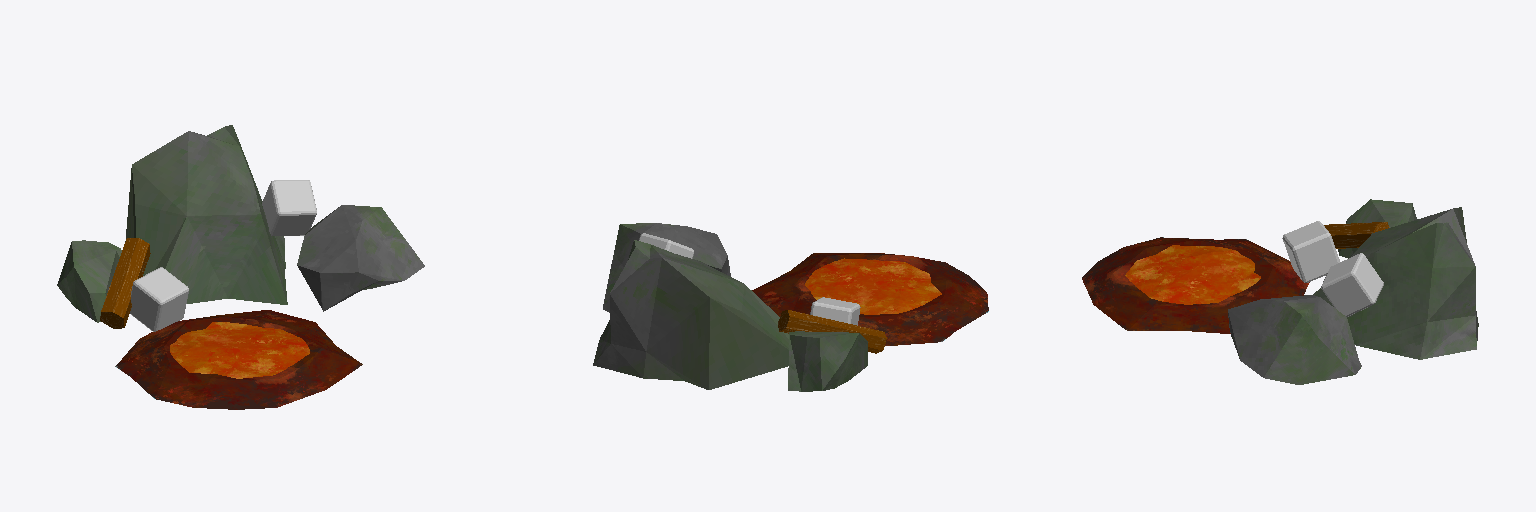
The picture shows the model from 3 angles: view 1: azimuth 30°, elevation 25°; view 2: azimuth 150°, elevation 25°; view 3: azimuth 270°, elevation 25°; orthographic projection.
Visible parts, largest first — view 1: Campamento.001, Roundcube.002, Roundcube.001; view 2: Campamento.001, Roundcube.002, Roundcube.001; view 3: Campamento.001, Roundcube.001, Roundcube.002.
Part boxes in pixels (bbox=[...]): Campamento.001: bbox=[57, 125, 424, 409]; Roundcube.002: bbox=[130, 267, 188, 331]; Roundcube.001: bbox=[262, 180, 316, 235]; Campamento.001: bbox=[593, 223, 988, 391]; Roundcube.002: bbox=[810, 297, 860, 325]; Roundcube.001: bbox=[639, 233, 693, 258]; Campamento.001: bbox=[1082, 199, 1478, 384]; Roundcube.001: bbox=[1321, 253, 1383, 316]; Roundcube.002: bbox=[1282, 221, 1339, 282].
Bounding box in the file's own units: 17.55 × 6.28 × 18.74.
Materials: 3 (1 with a texture image).